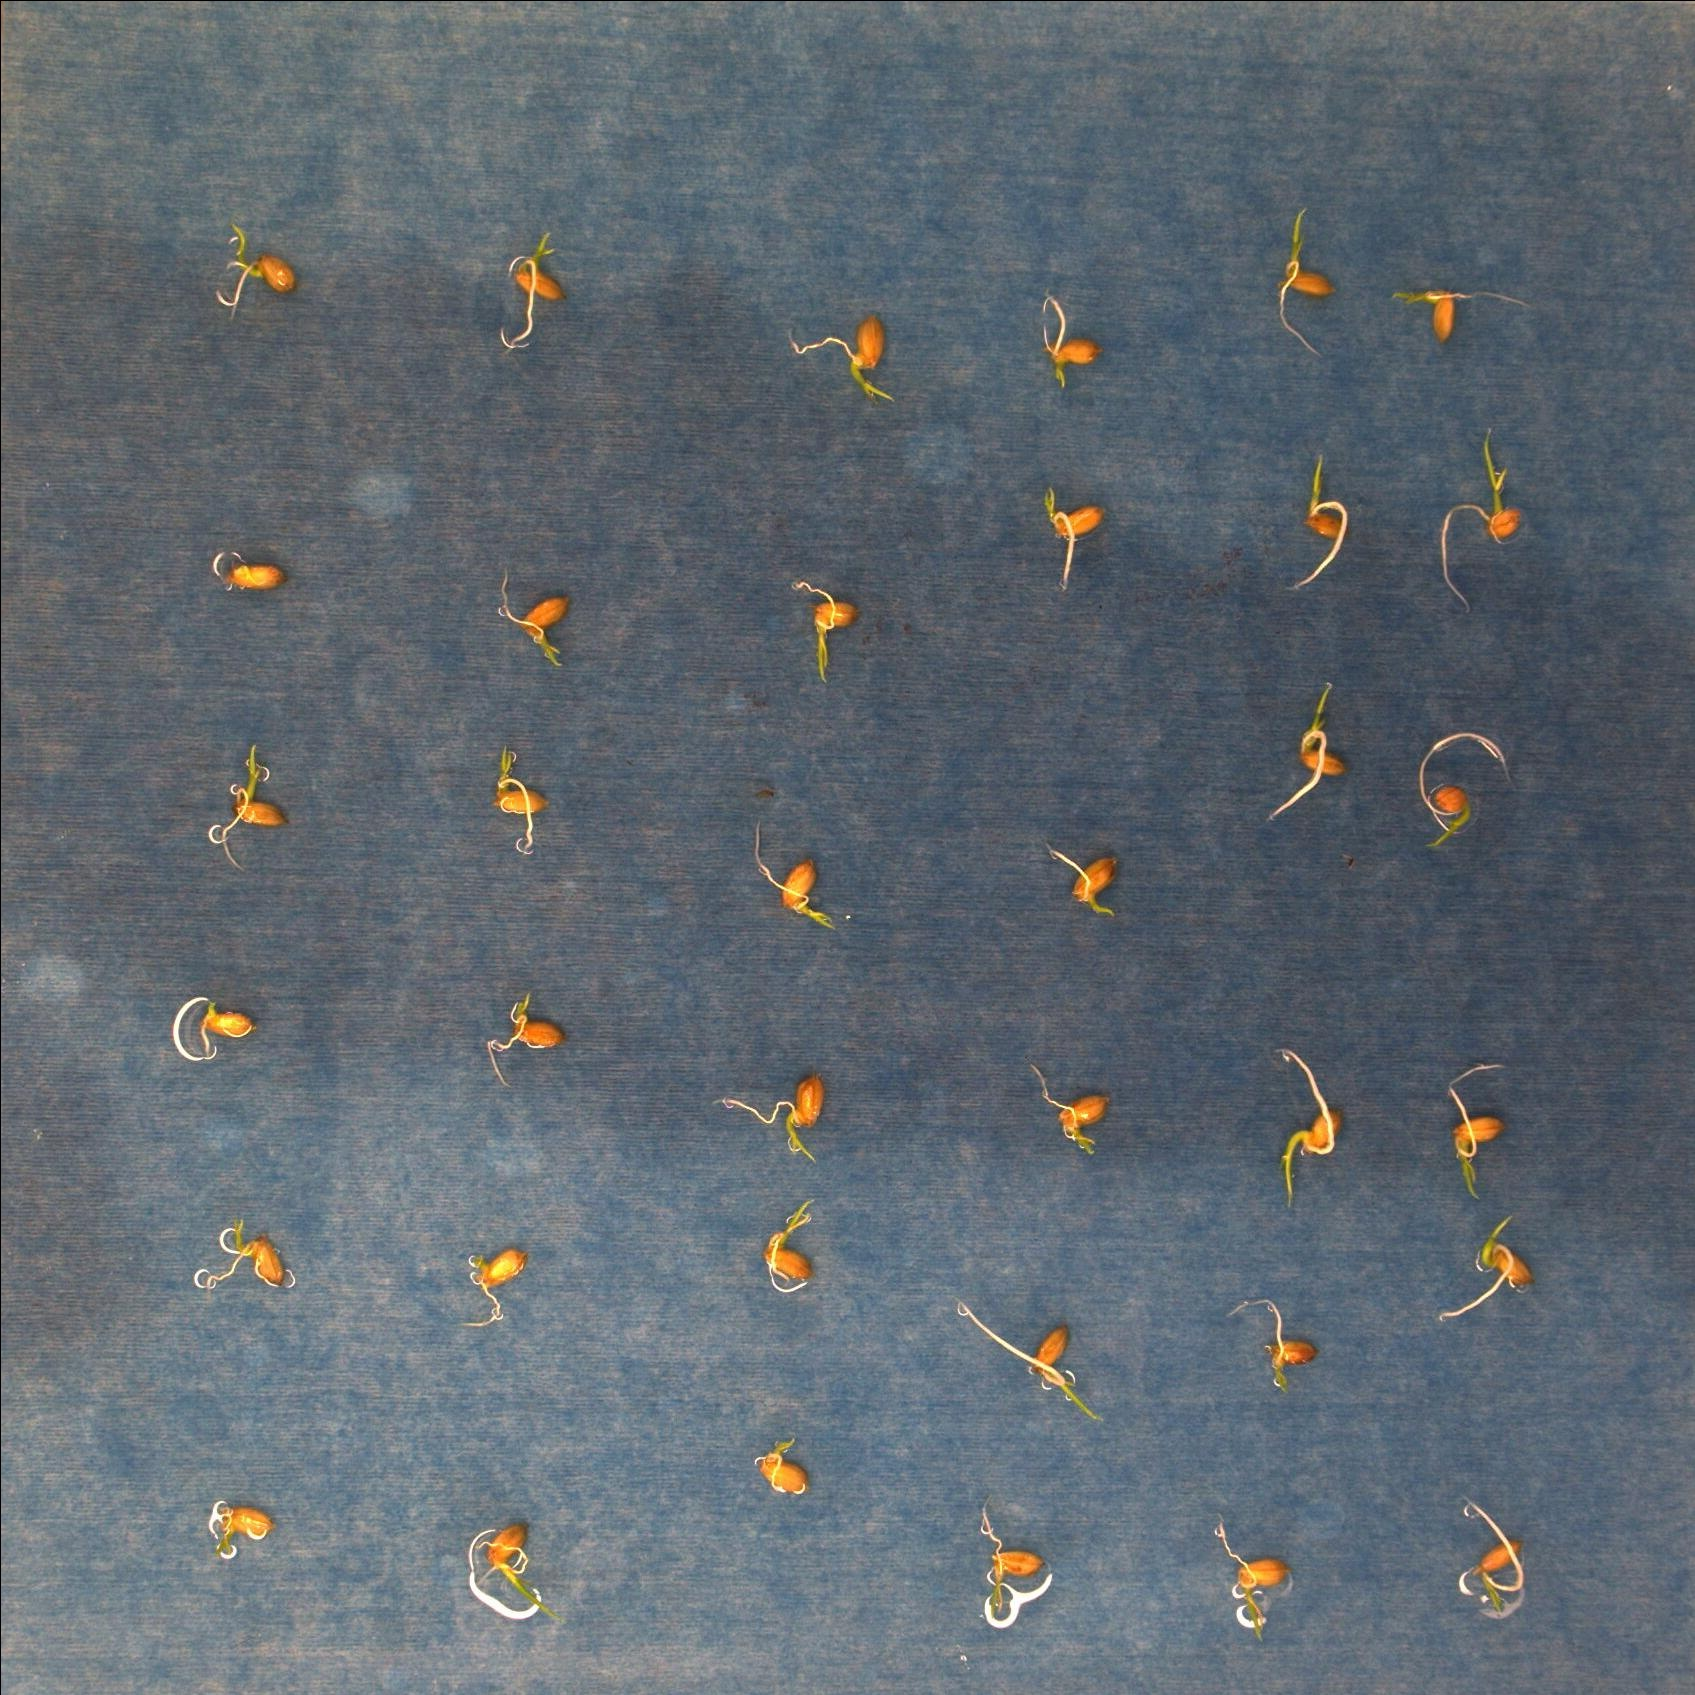not sprout: (459, 1243, 525, 1329), (508, 989, 582, 1063), (196, 998, 258, 1060), (751, 1437, 809, 1496), (216, 560, 287, 598)
sprout: (951, 1298, 1104, 1426), (1440, 425, 1527, 612), (1434, 1212, 1538, 1327), (1271, 1038, 1343, 1201), (1265, 680, 1346, 820), (1419, 731, 1510, 854), (203, 745, 287, 875), (785, 309, 899, 402), (747, 818, 840, 930), (1444, 1055, 1510, 1208), (1274, 203, 1338, 359), (472, 1521, 563, 1628), (497, 225, 570, 359), (722, 1069, 823, 1166), (1226, 1291, 1322, 1392), (1211, 1513, 1285, 1641), (1385, 286, 1532, 348), (1454, 1492, 1527, 1616), (211, 220, 303, 318), (1287, 449, 1347, 588), (497, 563, 571, 671), (1028, 1062, 1111, 1156), (789, 577, 858, 689), (976, 1499, 1042, 1616), (1038, 481, 1104, 594), (196, 1220, 289, 1296), (489, 750, 551, 860), (1049, 841, 1122, 920), (761, 1197, 816, 1296), (1048, 293, 1102, 388), (214, 1499, 272, 1554)
